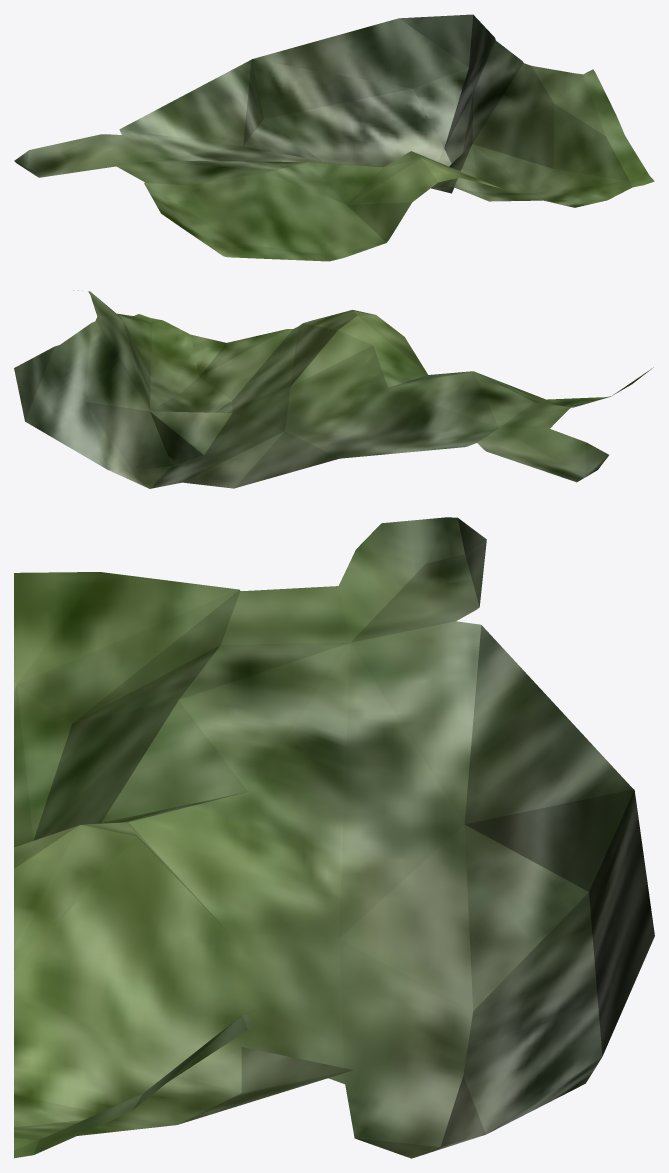
3 renders of one model, top to bottom at view 1: azimuth 30°, elevation 25°; view 2: azimuth 150°, elevation 25°; view 3: azimuth 270°, elevation 25°, orthographic. The views are drawn at different scales.
Size of the model in its own units: 1.61 by 0.3454 by 0.8566.
1 material, 1 textured.
